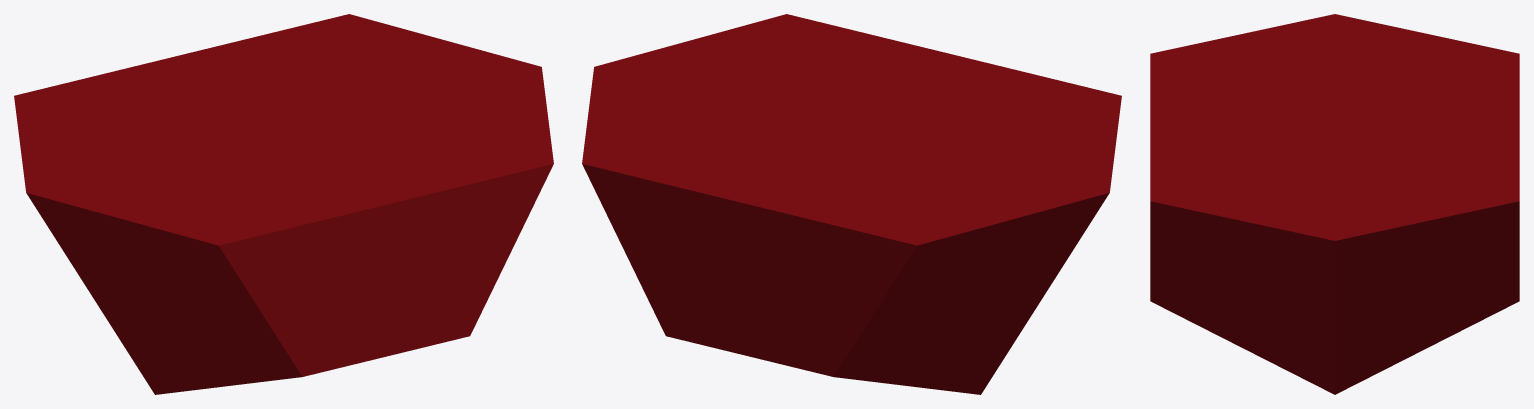
The model's file is chopped_cranberry.obj.
The picture shows the model from 3 angles, left to right: view 1: azimuth 30°, elevation 25°; view 2: azimuth 150°, elevation 25°; view 3: azimuth 270°, elevation 25°; orthographic projection. The views are drawn at different scales.
Parts seen in each view (by area): view 1: cherries.001; view 2: cherries.001; view 3: cherries.001.
Part boxes in pixels (bbox=[...]): cherries.001: bbox=[14, 14, 553, 394]; cherries.001: bbox=[582, 14, 1121, 394]; cherries.001: bbox=[1150, 14, 1519, 394].
Size of the model in its own units: 0.044 by 0.0191 by 0.0302.
